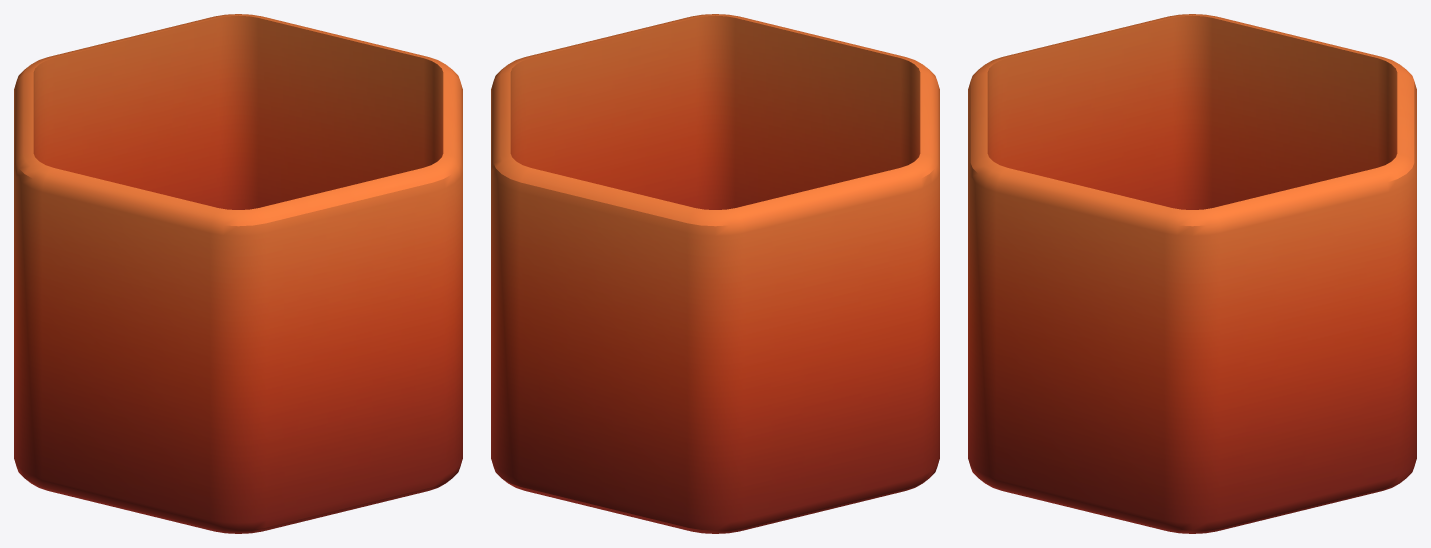
Rendered from hexa box2.fbx.
The picture shows the model from 3 angles, left to right: view 1: azimuth 30°, elevation 25°; view 2: azimuth 150°, elevation 25°; view 3: azimuth 270°, elevation 25°; orthographic projection.
Visible parts, largest first — view 1: Cylinder.049; view 2: Cylinder.049; view 3: Cylinder.049.
Boxes of the visible parts, <box> form: Cylinder.049: <box>14,14,462,533</box>; Cylinder.049: <box>491,14,939,533</box>; Cylinder.049: <box>968,14,1416,533</box>.
Size of the model in its own units: 194 by 140 by 174.
1 material, 1 textured.
